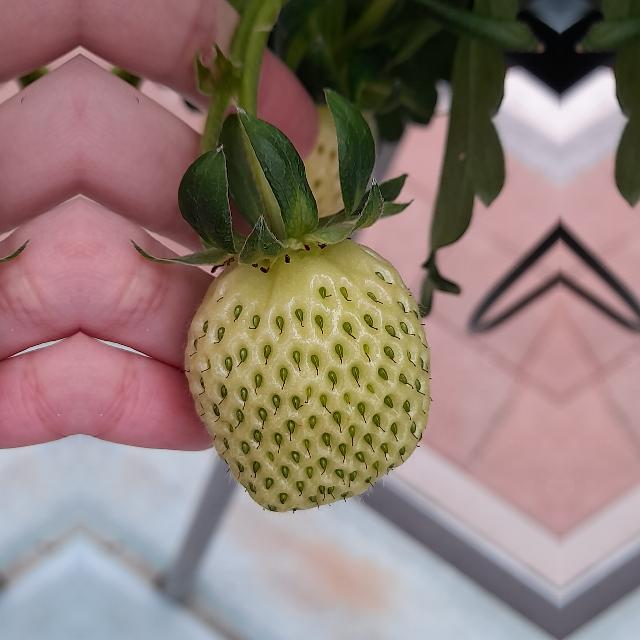Health_25: (184, 238, 430, 512)
